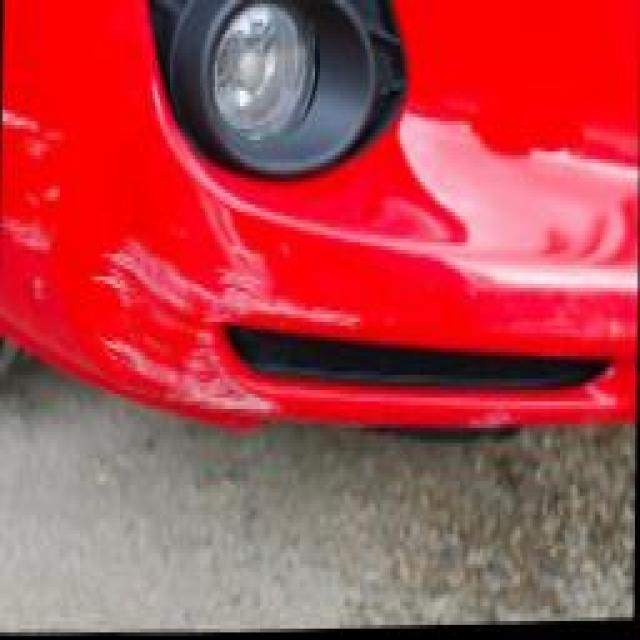Bumper: (0, 136, 639, 468)
